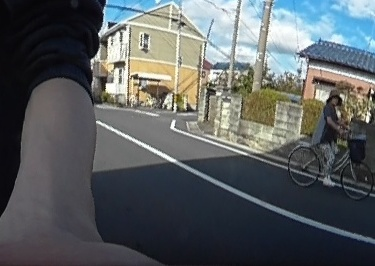person: (319, 88, 342, 188)
